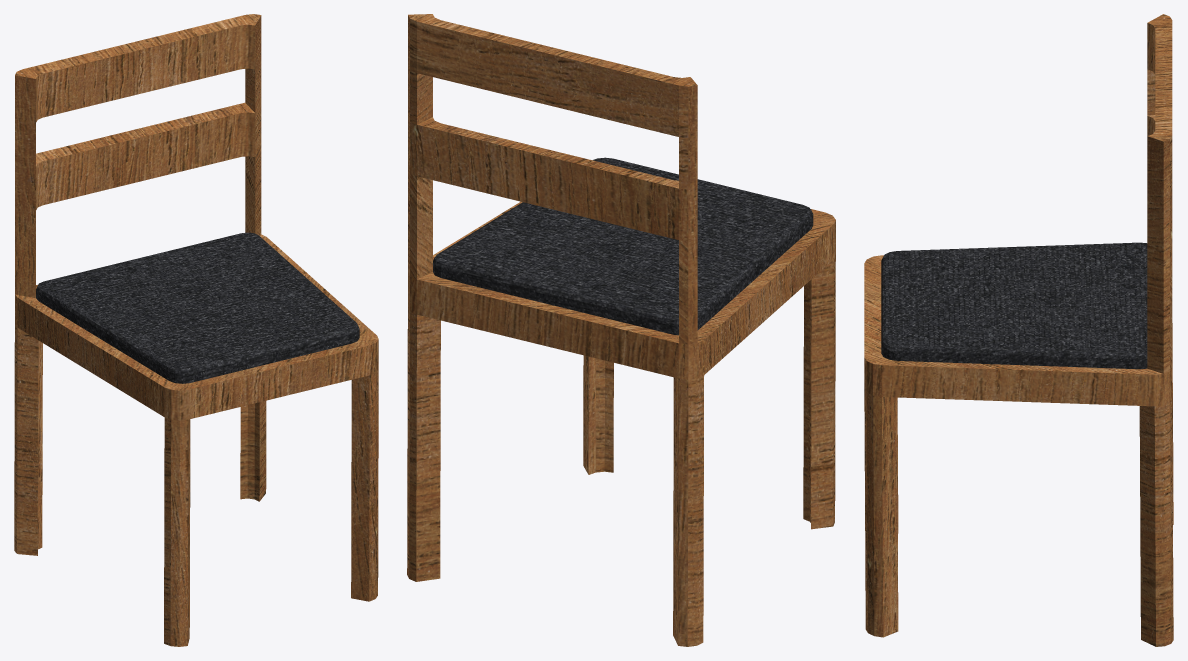
The model's file is Chair.fbx.
3 renders of one model, left to right at view 1: azimuth 30°, elevation 25°; view 2: azimuth 150°, elevation 25°; view 3: azimuth 270°, elevation 25°, orthographic. The views are drawn at different scales.
Parts seen in each view (by area): view 1: Cube, Cube.001; view 2: Cube, Cube.001; view 3: Cube, Cube.001.
Part boxes in pixels (x1,y1,x2,y2): Cube: (14, 14, 378, 646); Cube.001: (36, 232, 359, 383); Cube: (407, 14, 835, 646); Cube.001: (433, 157, 813, 335); Cube: (864, 14, 1173, 646); Cube.001: (881, 242, 1147, 369).
Size of the model in its own units: 223 by 407 by 226.
